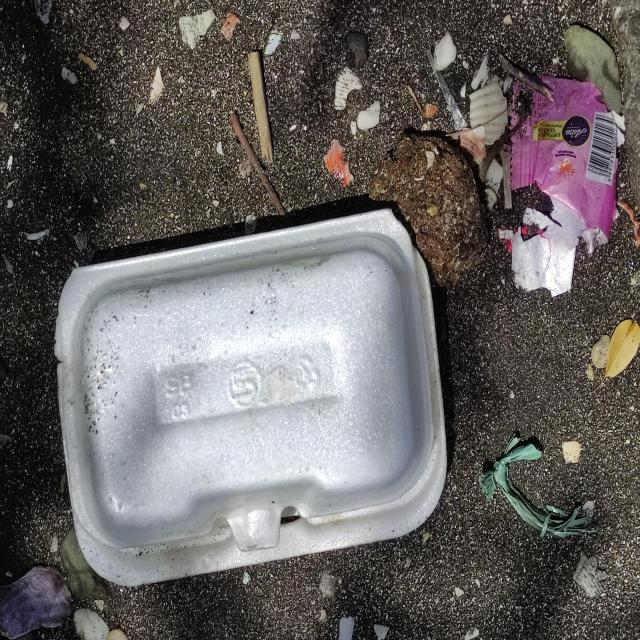plastic_waste: (503, 71, 625, 300)
styrofoam_waste: (56, 209, 451, 590)
